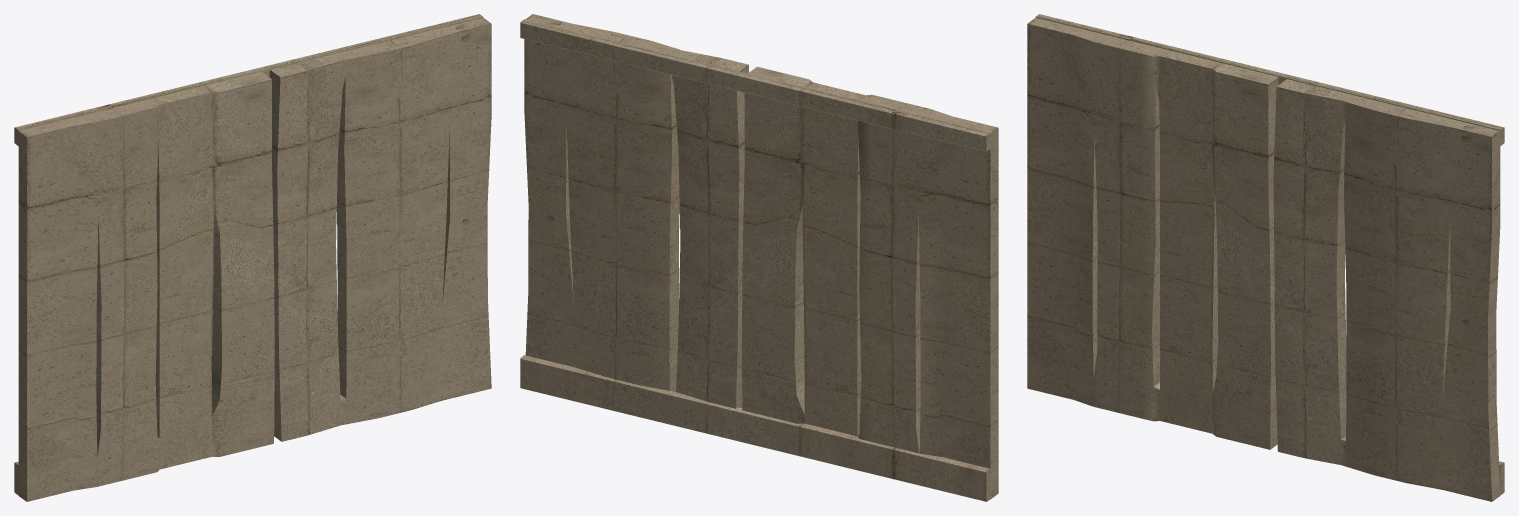
The model's file is wall.glb.
3 renders of one model, left to right at view 1: azimuth 30°, elevation 25°; view 2: azimuth 150°, elevation 25°; view 3: azimuth 330°, elevation 25°, orthographic.
Visible parts, largest first — view 1: S_Farm_Barn_Wall_02; view 2: S_Farm_Barn_Wall_02; view 3: S_Farm_Barn_Wall_02.
Boxes of the visible parts, left/top/right/bottom form: S_Farm_Barn_Wall_02: left=14, top=14, right=491, bottom=501; S_Farm_Barn_Wall_02: left=520, top=14, right=998, bottom=501; S_Farm_Barn_Wall_02: left=1027, top=14, right=1504, bottom=501.
Size of the model in its own units: 5.12 by 3.85 by 0.2806.
1 material, 1 textured.
